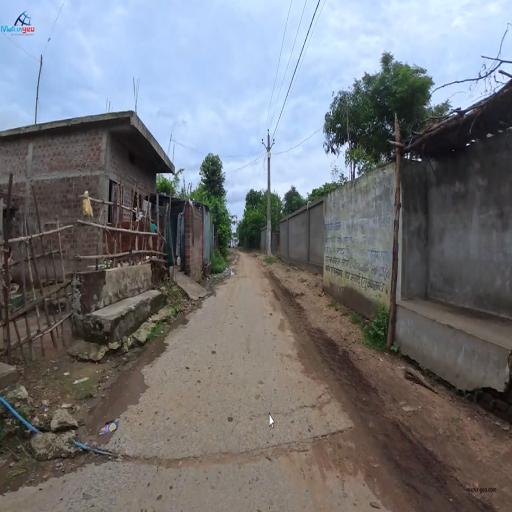longitudinal_crack: (100, 414, 365, 479)
